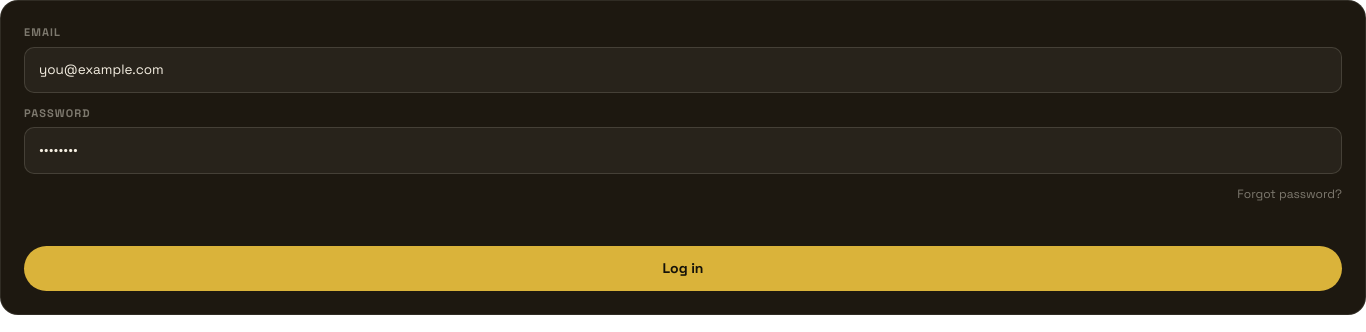
Test: AuthForm › shows the API error's message and does not navigate on failure
Type "a@b.com" into the field labelled "Email". click: [683, 70]
box: top-left (24, 46), bottom-right (1342, 93)
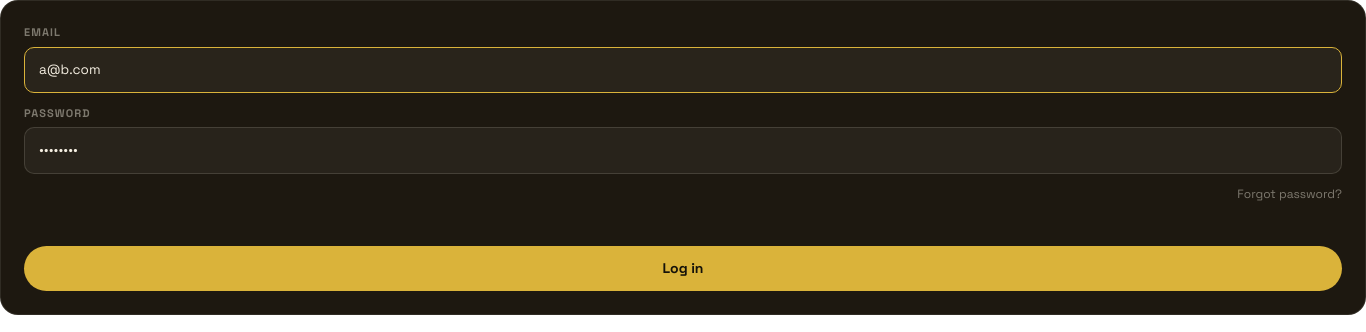
Type "password123" into the password field labelled "Password". click: [683, 150]
box: top-left (24, 127), bottom-right (1342, 174)
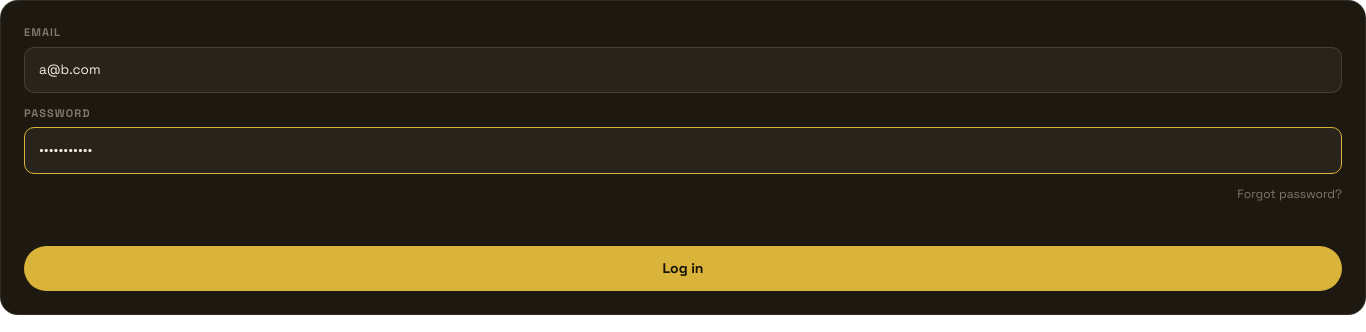
Click the button "Log in". click: [683, 268]
box: top-left (24, 246), bottom-right (1342, 290)
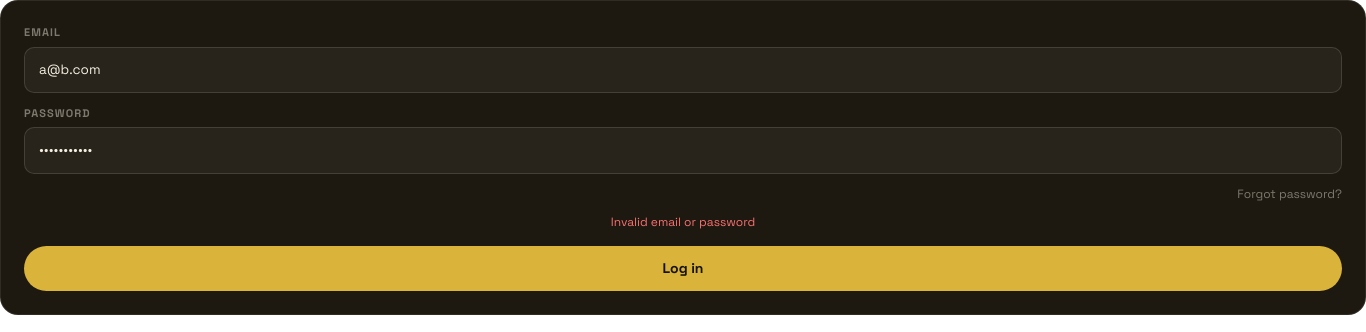
Now the message reads "Invalid email or password", box top-left (611, 214), bottom-right (755, 230)
